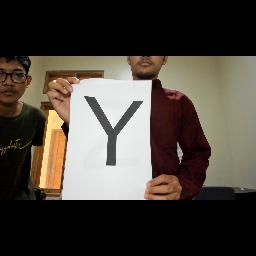y: (80, 91, 146, 169)
